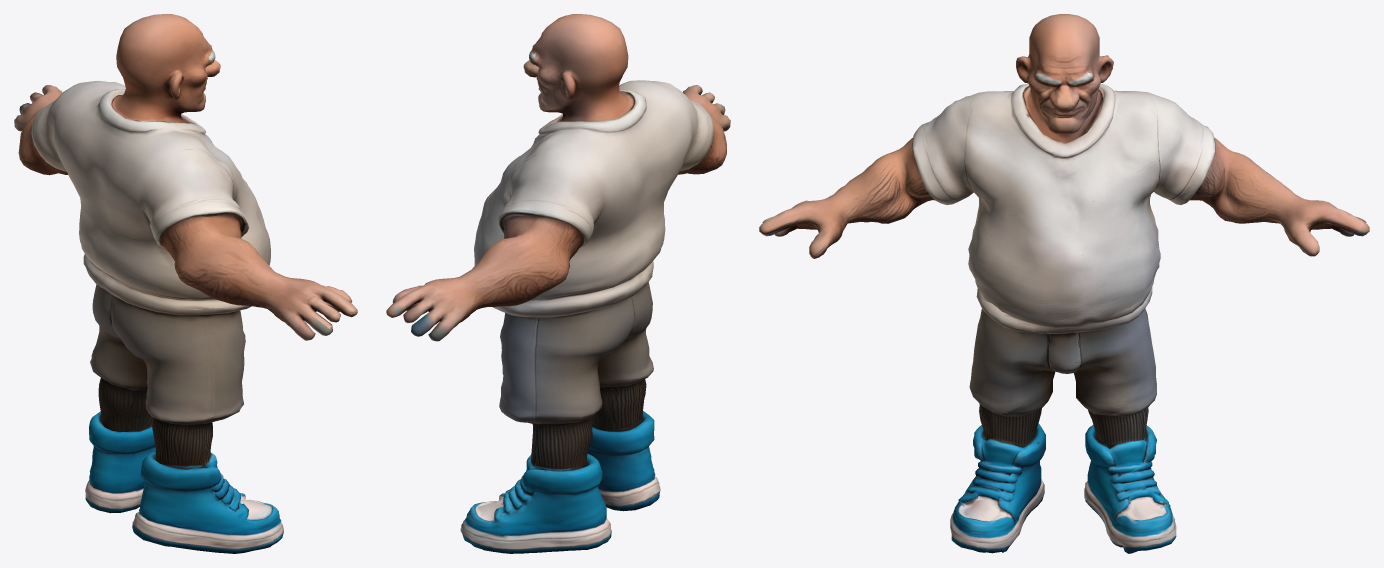
3 renders of one model, left to right at view 1: azimuth 30°, elevation 25°; view 2: azimuth 150°, elevation 25°; view 3: azimuth 270°, elevation 25°, orthographic.
Visible parts, largest first — view 1: tripo_node_802ff00a; view 2: tripo_node_802ff00a; view 3: tripo_node_802ff00a.
Boxes of the visible parts, x1=… form: tripo_node_802ff00a: x1=14, y1=14, x2=357, y2=553; tripo_node_802ff00a: x1=386, y1=14, x2=730, y2=553; tripo_node_802ff00a: x1=759, y1=14, x2=1369, y2=553.
Size of the model in its own units: 0.317 by 0.91 by 1.
Materials: 1 (1 with a texture image).
